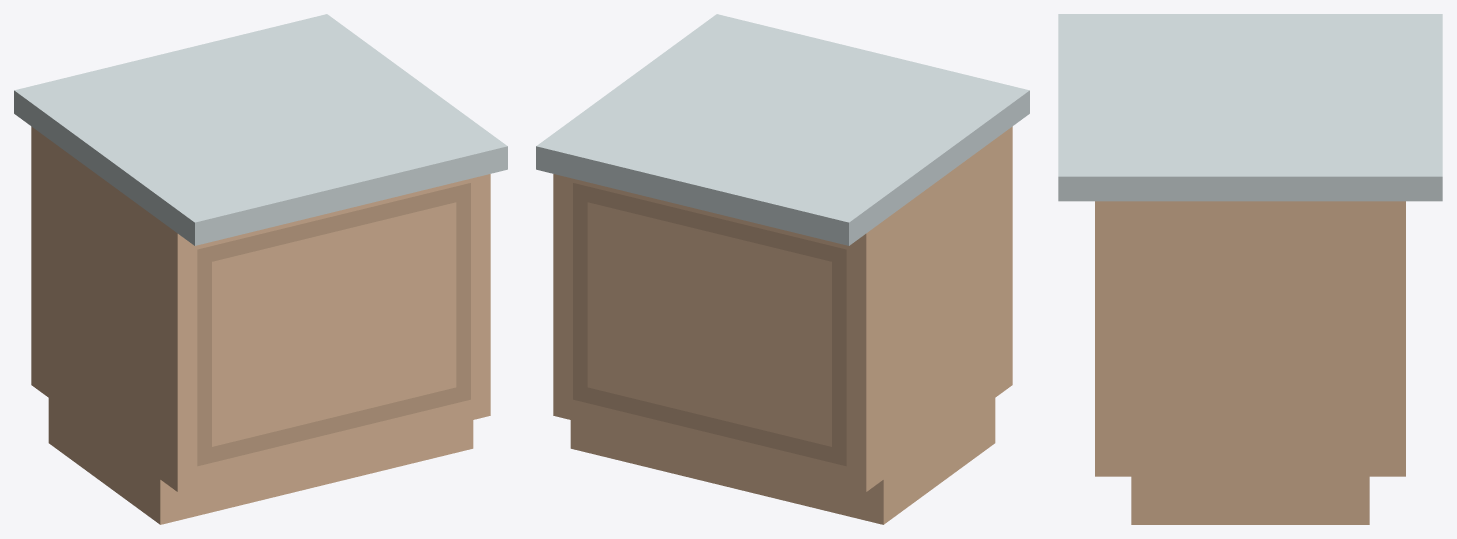
Rendered from kn-kitchen-bar.glb.
3 renders of one model, left to right at view 1: azimuth 30°, elevation 25°; view 2: azimuth 150°, elevation 25°; view 3: azimuth 270°, elevation 25°, orthographic. The views are drawn at different scales.
Visible parts, largest first — view 1: kitchenBar(Clone); view 2: kitchenBar(Clone); view 3: kitchenBar(Clone).
Part boxes in pixels (bbox=[...]): kitchenBar(Clone): bbox=[14, 14, 507, 524]; kitchenBar(Clone): bbox=[536, 14, 1029, 524]; kitchenBar(Clone): bbox=[1058, 14, 1442, 524].
Bounding box in the file's own units: 1 × 1 × 1.
